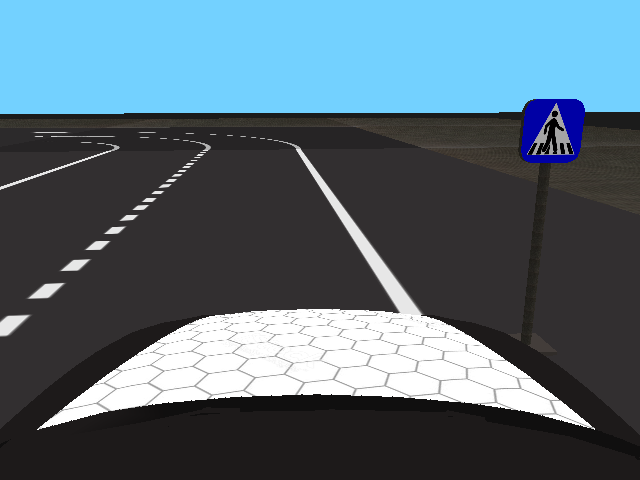pedestrian_cross: (520, 99, 585, 162)
